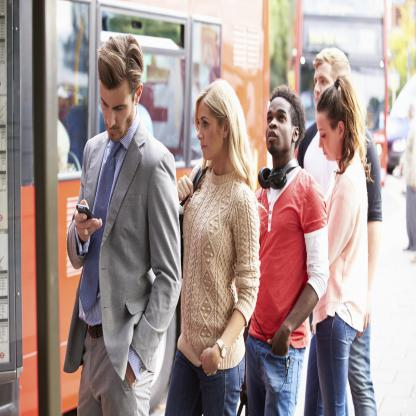Not_Wearing_Mask: (99, 80, 130, 142), (265, 97, 290, 155), (316, 114, 344, 164), (198, 110, 218, 162), (312, 64, 327, 101)
